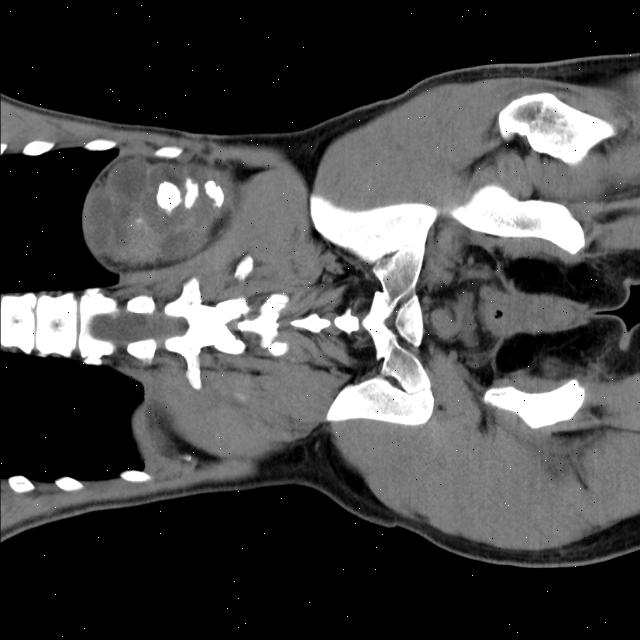kidneystone: (156, 181, 181, 209), (205, 179, 224, 207), (184, 177, 199, 208)
